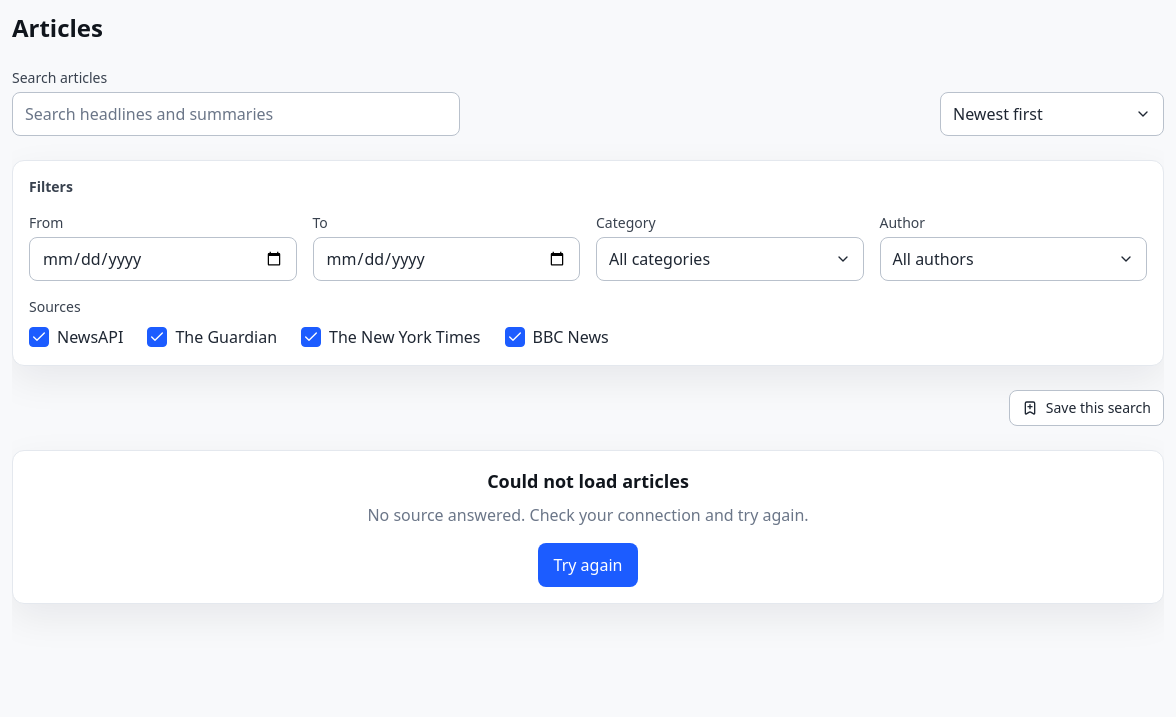
ArticlesPage — cold load that fails › recovers in place when the retry succeeds
Expected: the heading "Could not load articles" is shown, [487,469,689,493]
Click the button "Try again": (588, 565) [538,543,638,587]
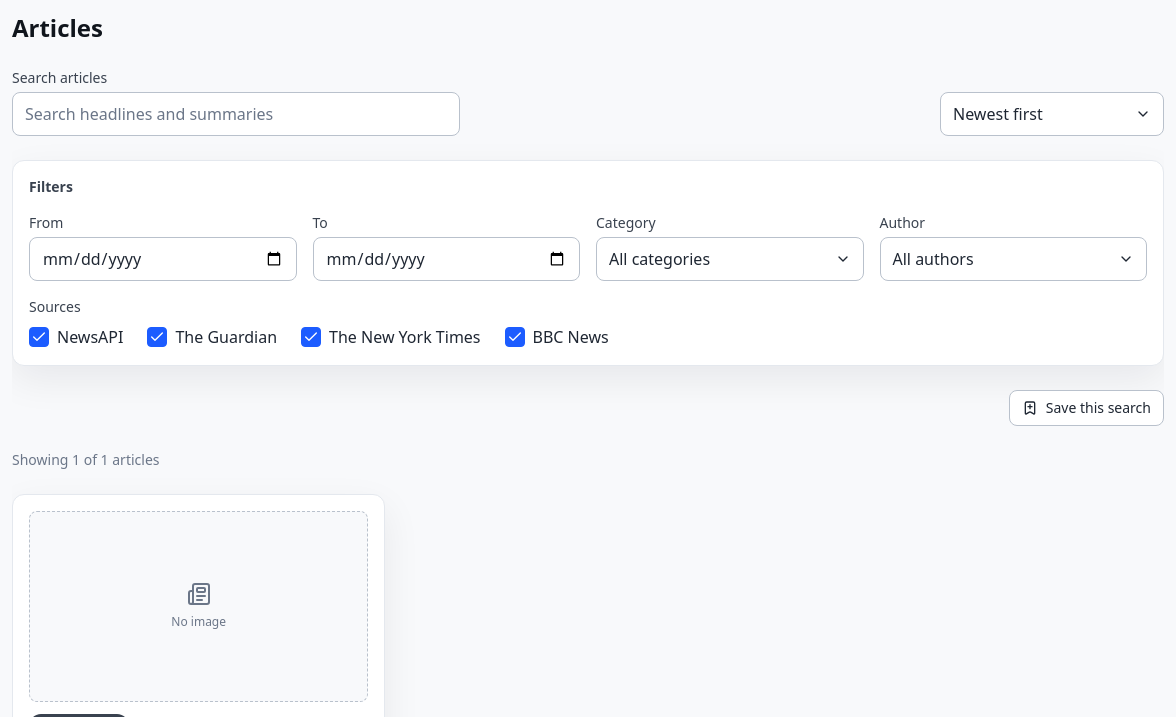
Expected: the heading "Could not load articles" is gone
Expected: the message reads "Showing 1 of 1 articles", [12,450,160,469]
